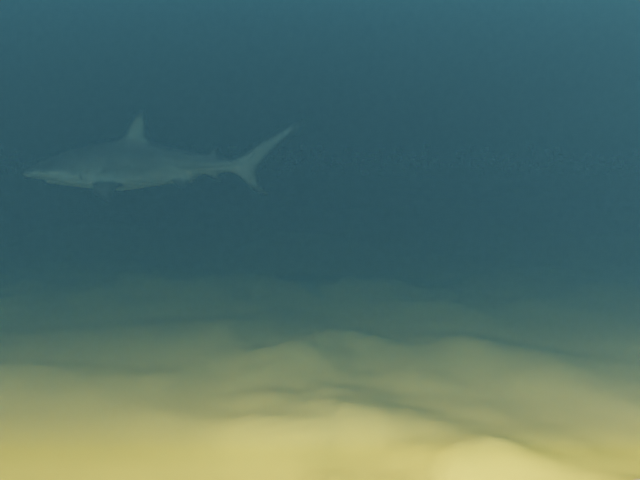Carribean Shark.001: (22, 111, 303, 201)
